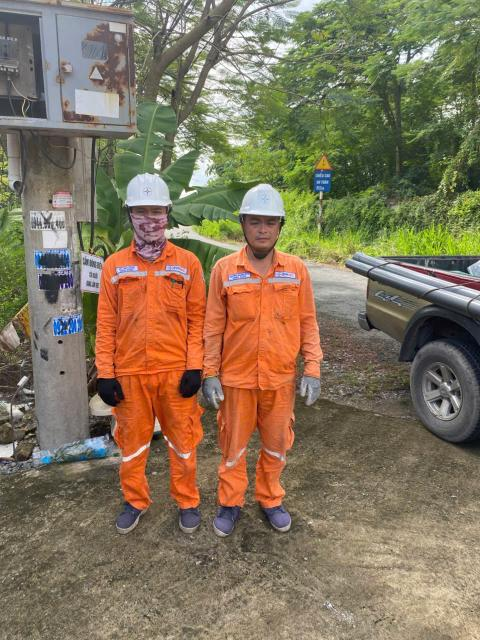gloves: (78, 374, 133, 408), (196, 367, 227, 409), (297, 372, 334, 404), (178, 359, 204, 402)
helmet: (232, 175, 298, 220), (113, 170, 178, 213)
shoes: (212, 488, 242, 542), (168, 493, 206, 534), (110, 497, 148, 536), (259, 496, 296, 536)
